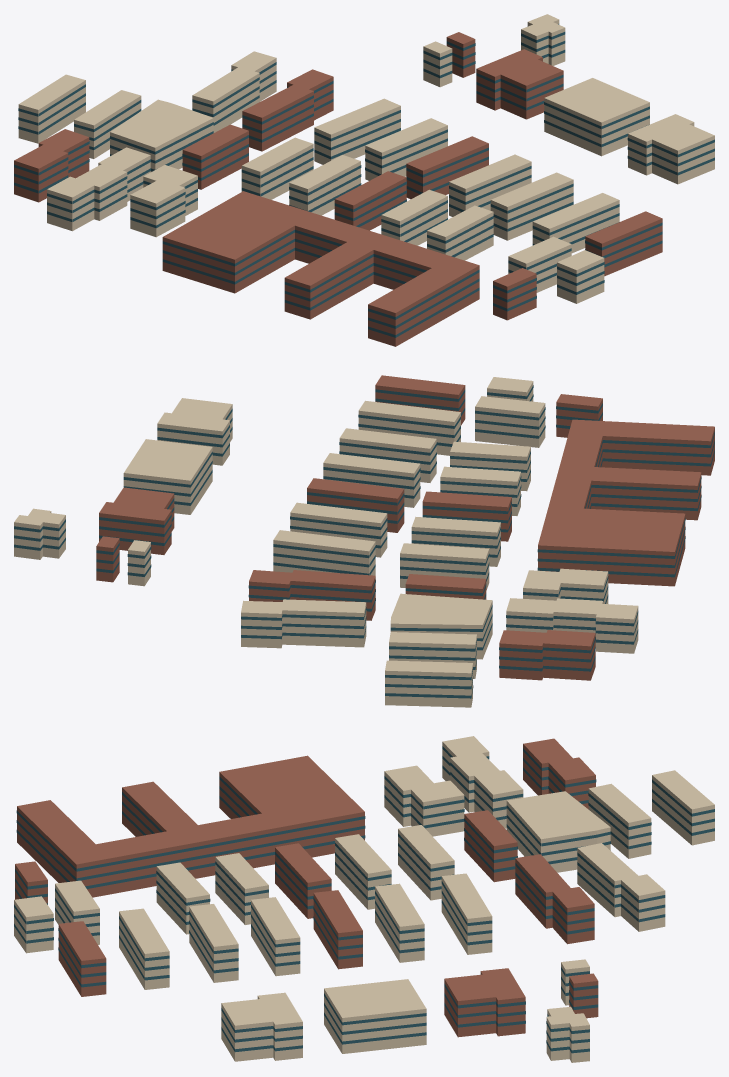
File: city_8_-6.glb
3 renders of one model, top to bottom at view 1: azimuth 30°, elevation 25°; view 2: azimuth 150°, elevation 25°; view 3: azimuth 270°, elevation 25°, orthographic. The views are drawn at different scales.
Visible parts, largest first — view 1: city_8_-6; view 2: city_8_-6; view 3: city_8_-6.
Boxes of the visible parts, box(x1,y1,x2,y2) form: city_8_-6: box(14, 14, 714, 346); city_8_-6: box(14, 375, 714, 707); city_8_-6: box(14, 736, 714, 1062).
Size of the model in its own units: 259 by 15 by 264.
